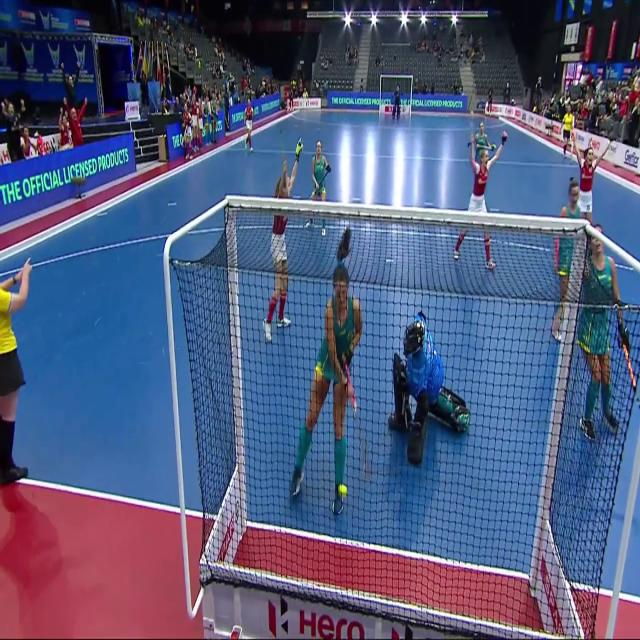ball: (332, 473, 350, 499)
